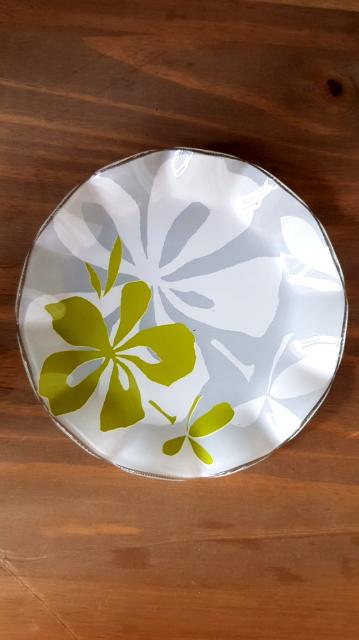Plate: (17, 149, 348, 479)
